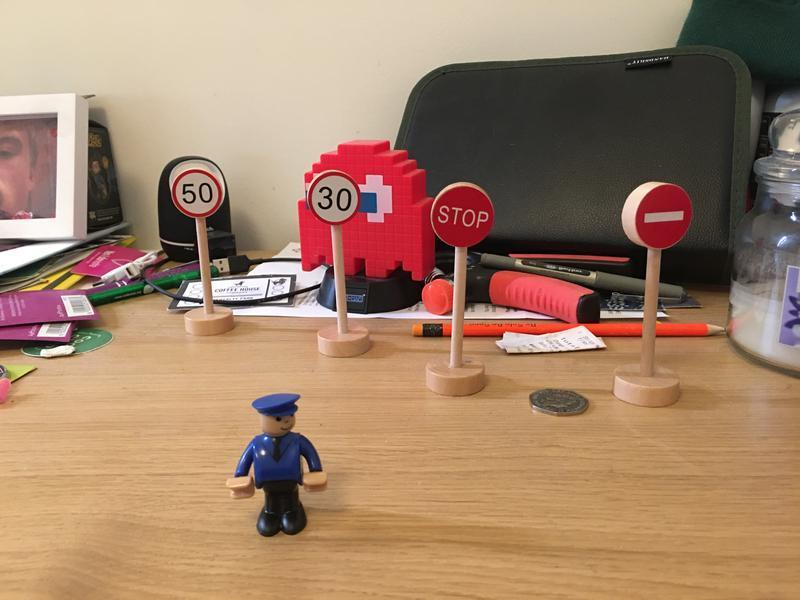Traffic_Sign_30: (309, 171, 360, 224)
Traffic_Sign_50: (170, 172, 223, 215)
Traffic_Sign_No_Entry: (635, 182, 691, 249)
Traffic_Sign_Stop: (430, 183, 493, 248)
person: (223, 390, 333, 541)
